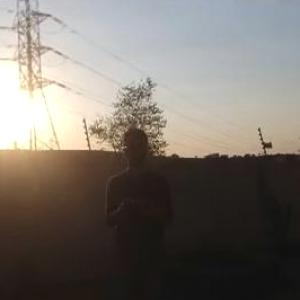follow: (102, 122, 180, 299)
